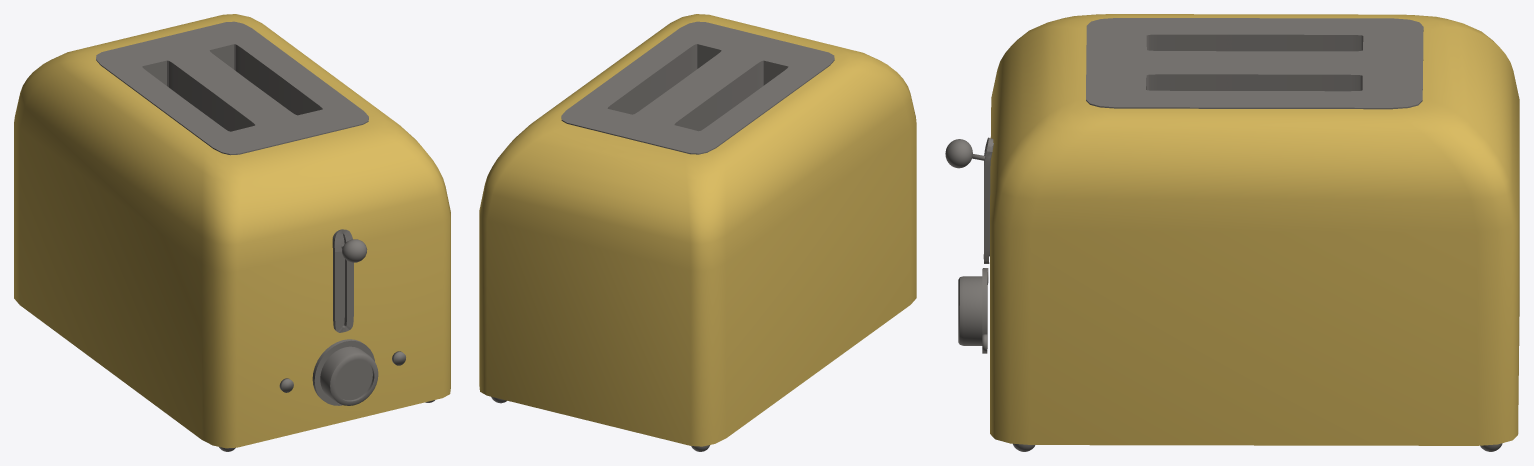
The model's file is toaster.fbx.
3 views of the same model, side by side, from view 1: azimuth 30°, elevation 25°; view 2: azimuth 150°, elevation 25°; view 3: azimuth 270°, elevation 25° (orthographic). The views are drawn at different scales.
Visible parts, largest first — view 1: Paahdin, Paahtimet, Nuppi, Vipukehys, Vipu; view 2: Paahdin, Paahtimet; view 3: Paahdin, Paahtimet, Nuppi, Vipukehys, Vipu.
Part boxes in pixels (x1,y1,x2,y2): Paahdin: [14, 14, 450, 448]; Paahtimet: [96, 21, 368, 155]; Nuppi: [312, 339, 378, 405]; Vipukehys: [332, 229, 353, 332]; Vipu: [341, 239, 367, 262]; Paahdin: [479, 14, 916, 446]; Paahtimet: [561, 21, 834, 154]; Paahdin: [990, 14, 1519, 445]; Paahtimet: [1086, 18, 1423, 109]; Nuppi: [958, 268, 987, 353]; Vipukehys: [983, 137, 993, 263]; Vipu: [945, 139, 985, 168].
Size of the model in its own units: 0.2013 by 0.2123 by 0.3369.
